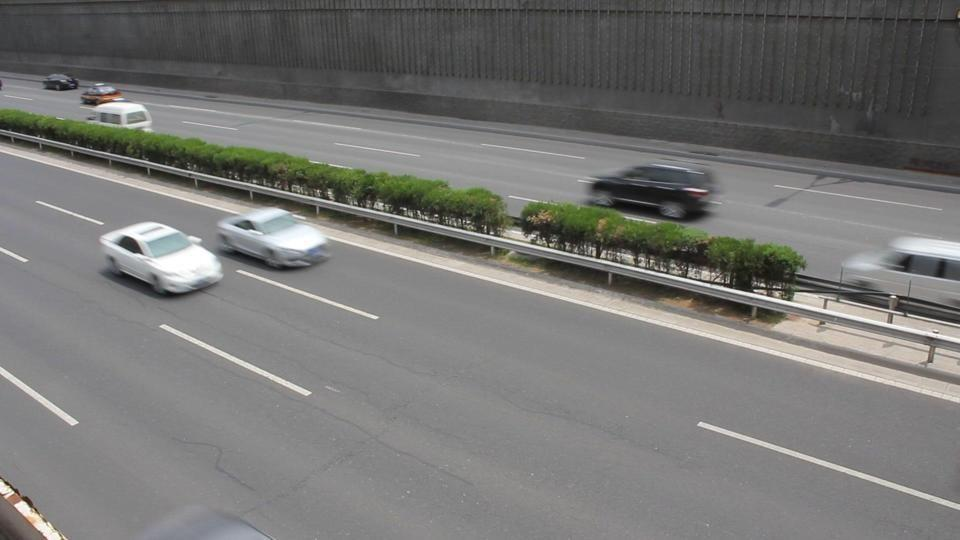car: (838, 234, 959, 321), (97, 218, 224, 296), (578, 162, 725, 221), (215, 206, 330, 270), (90, 100, 153, 131), (80, 82, 122, 106), (42, 73, 79, 91)
